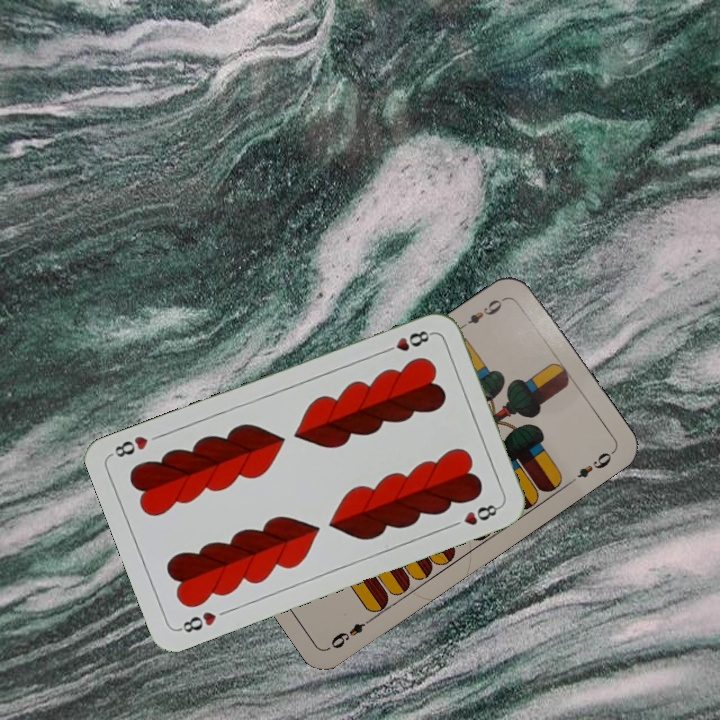E9: (456, 293, 509, 331), (326, 613, 378, 651)
H8: (379, 326, 436, 356), (174, 607, 219, 636)
